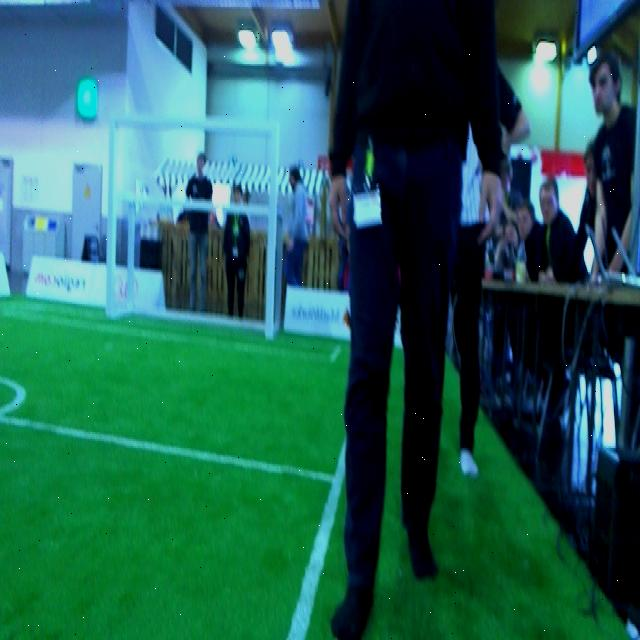goalpost: (263, 118, 277, 342), (105, 109, 116, 324)
